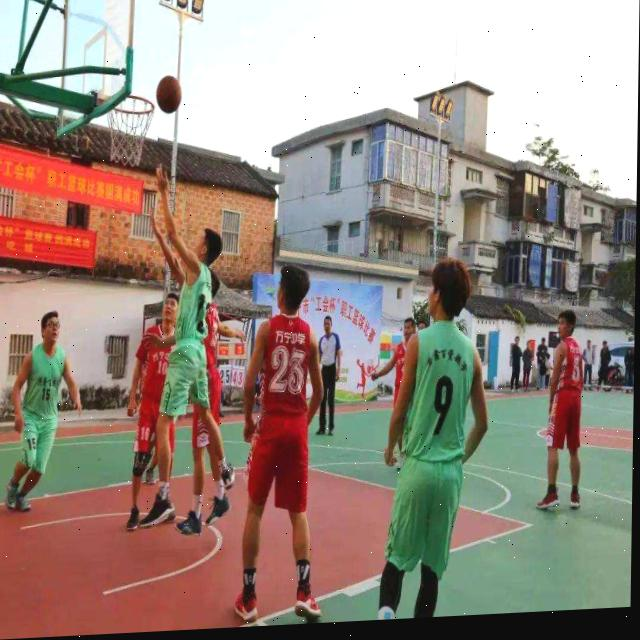basketball: (153, 73, 186, 121)
hoop: (107, 91, 156, 165)
